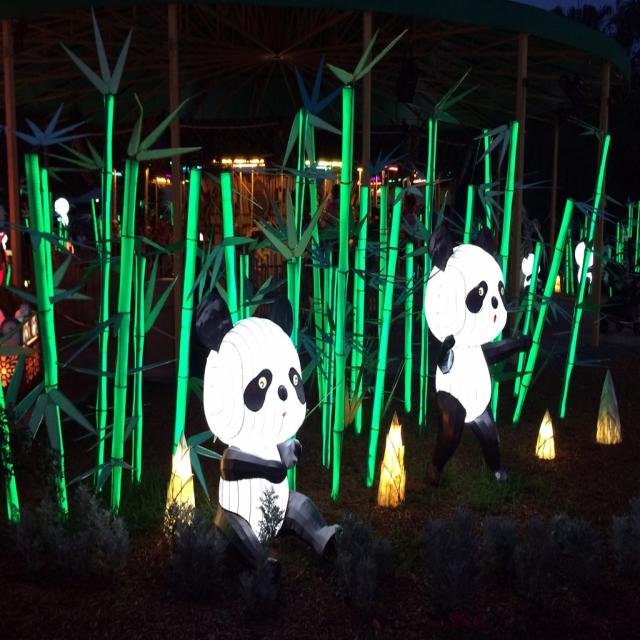panda: (193, 285, 346, 590), (415, 232, 528, 518)
